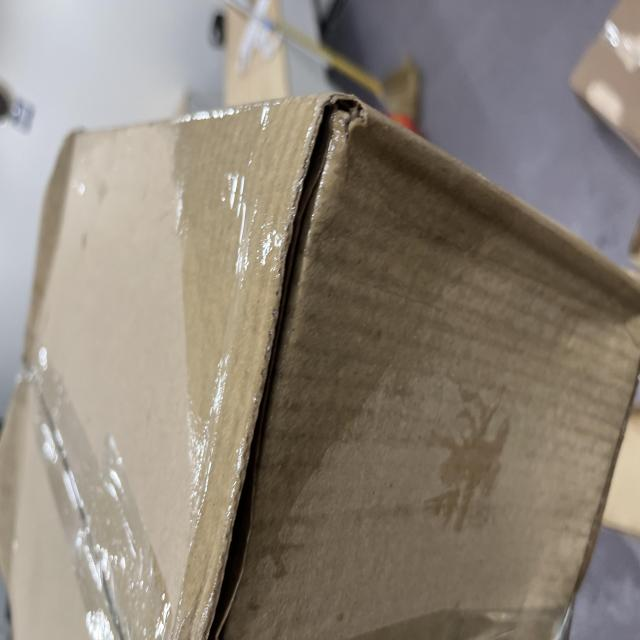wet: (71, 216, 418, 640)
